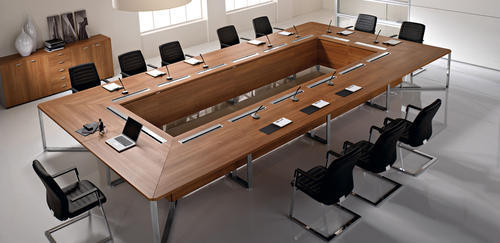conference_table: (39, 22, 451, 242)
